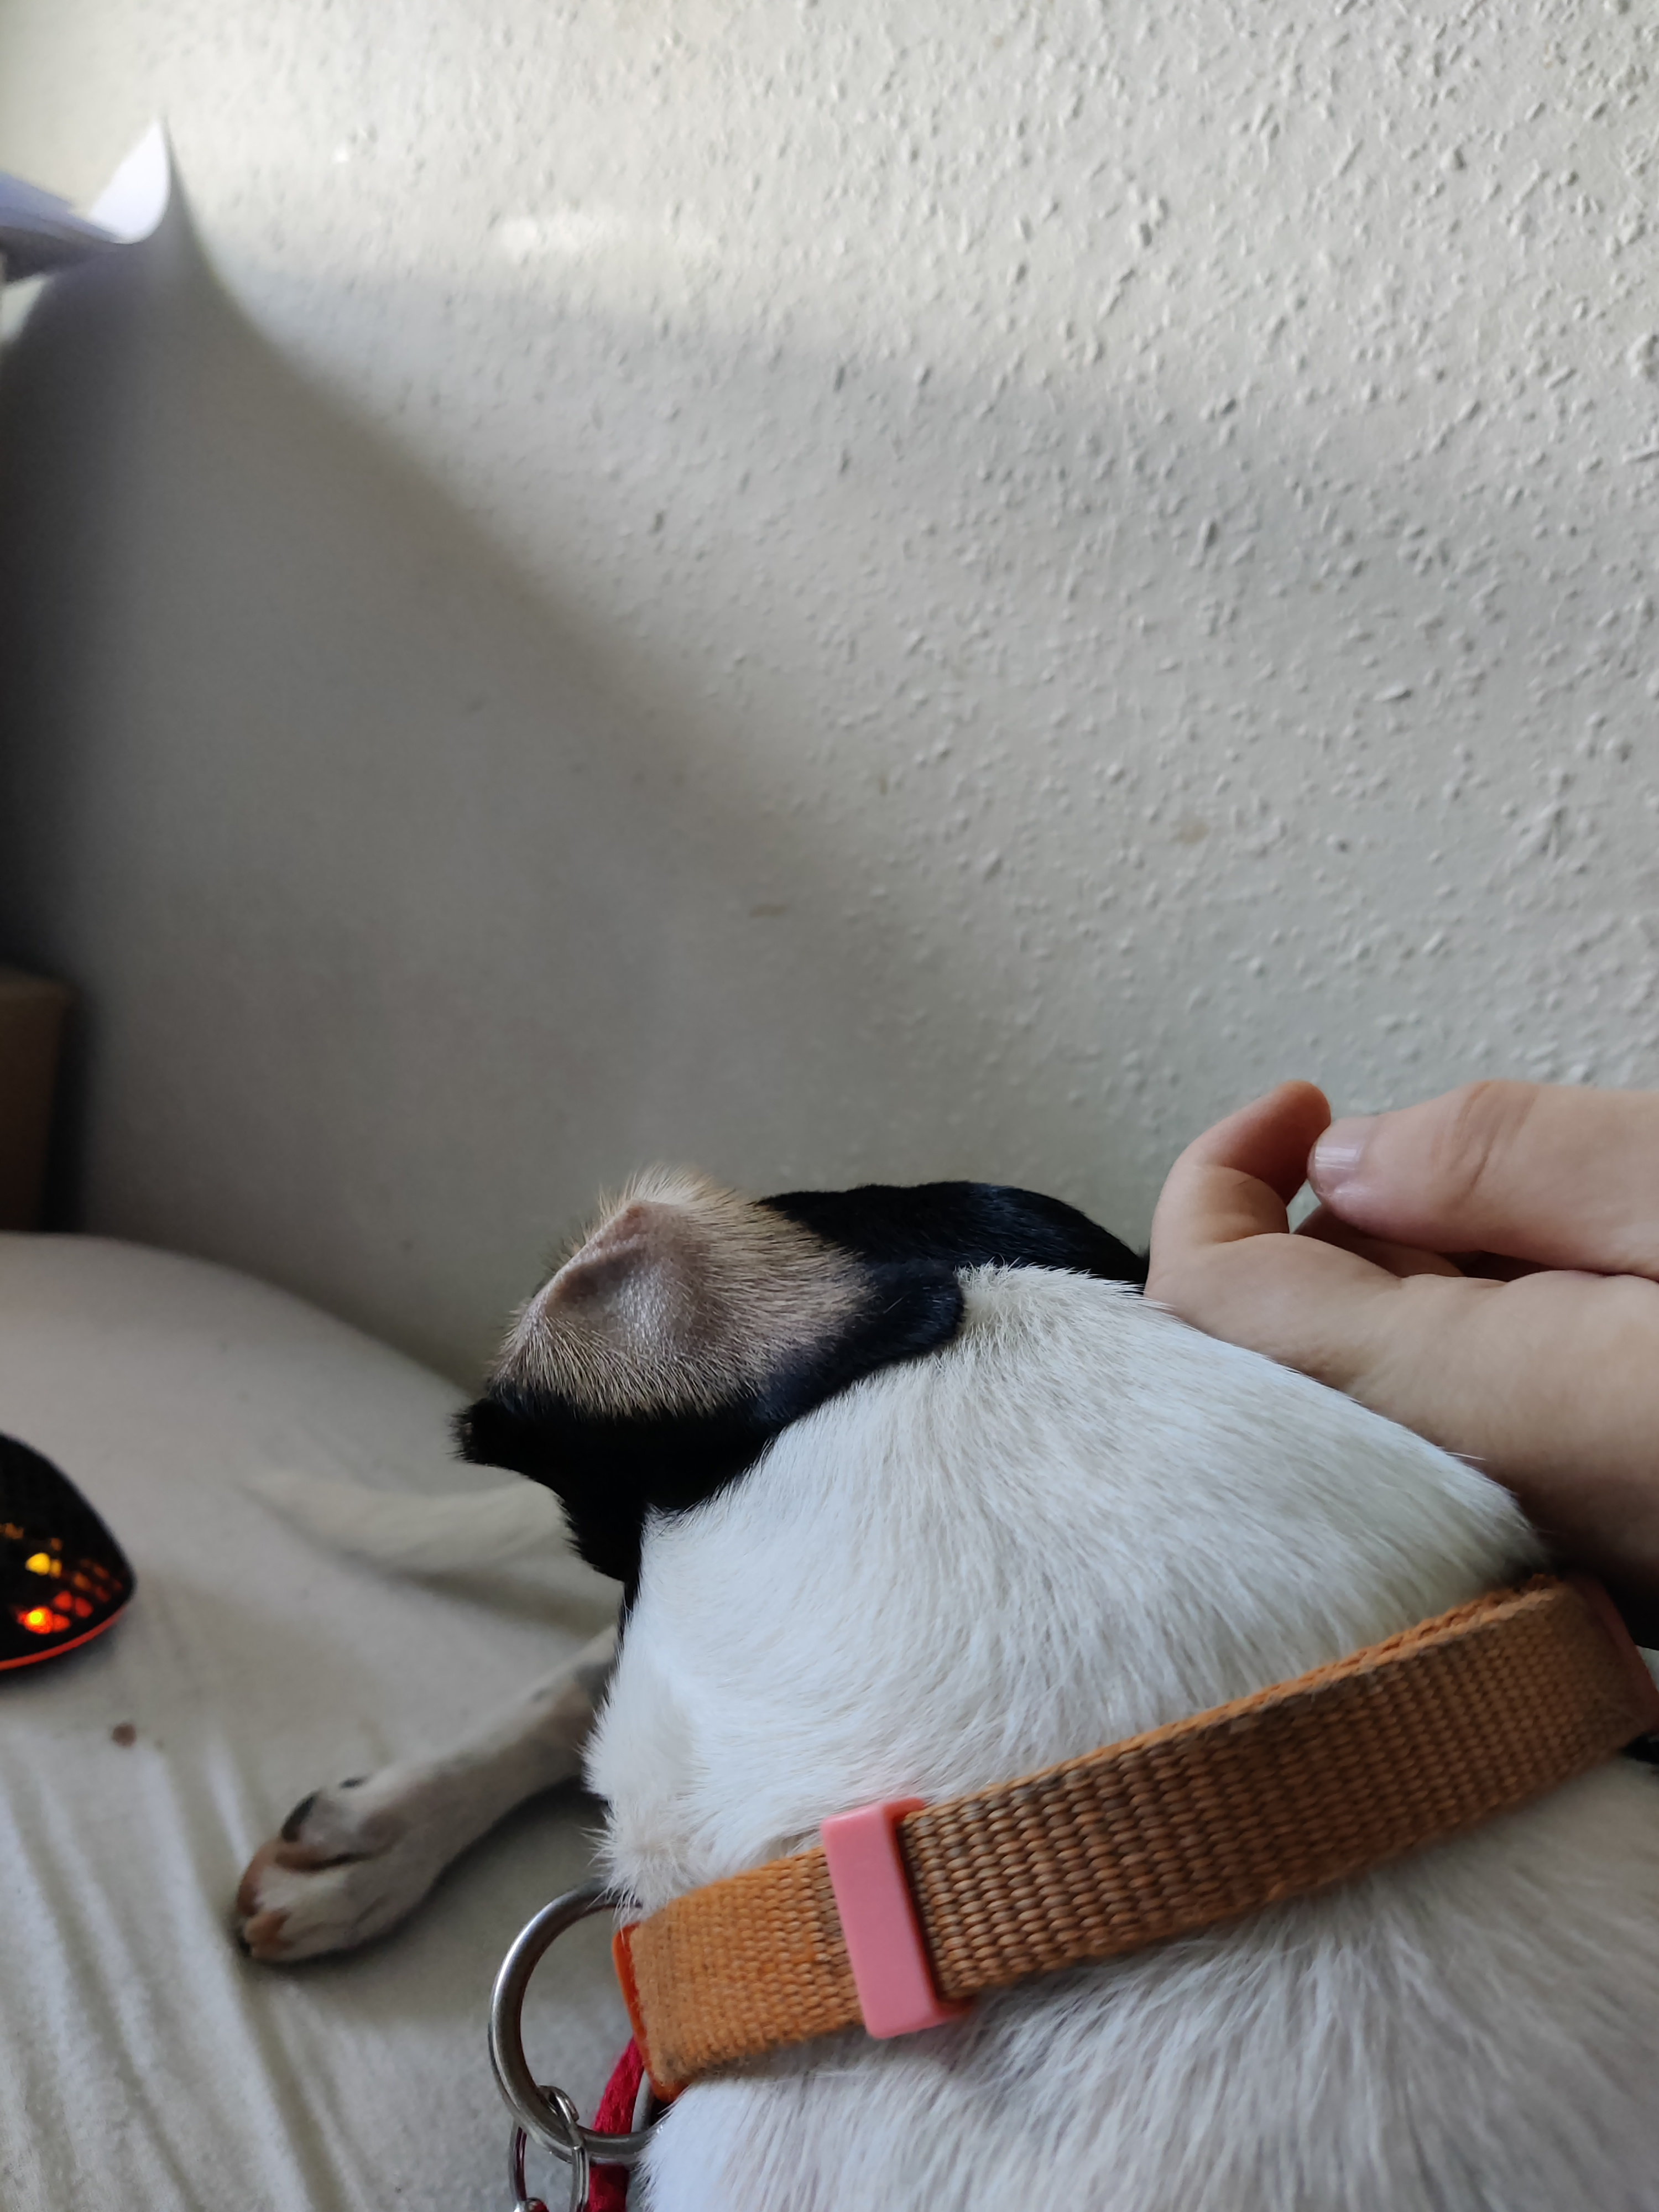Dog: (209, 1137, 1659, 2212)
